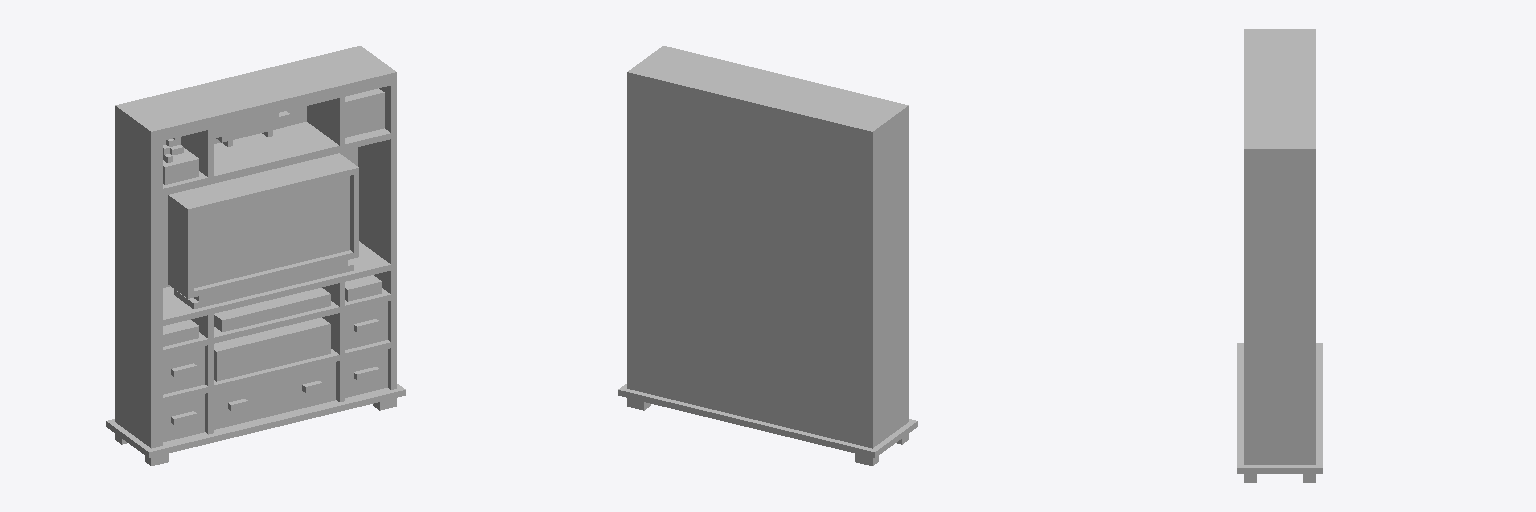
The model's file is tv_stand.obj.
3 renders of one model, left to right at view 1: azimuth 30°, elevation 25°; view 2: azimuth 150°, elevation 25°; view 3: azimuth 270°, elevation 25°, orthographic.
Parts seen in each view (by area): view 1: object 1; view 2: object 1; view 3: object 1.
Boxes of the visible parts, x1,y1,x2,y2 form: object 1: [106, 46, 405, 465]; object 1: [618, 46, 917, 465]; object 1: [1237, 29, 1322, 482].
Size of the model in its own units: 4.5 by 5.6 by 1.3.